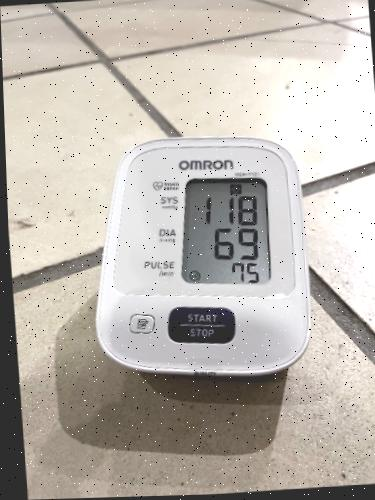bpm: (178, 174, 273, 286)
